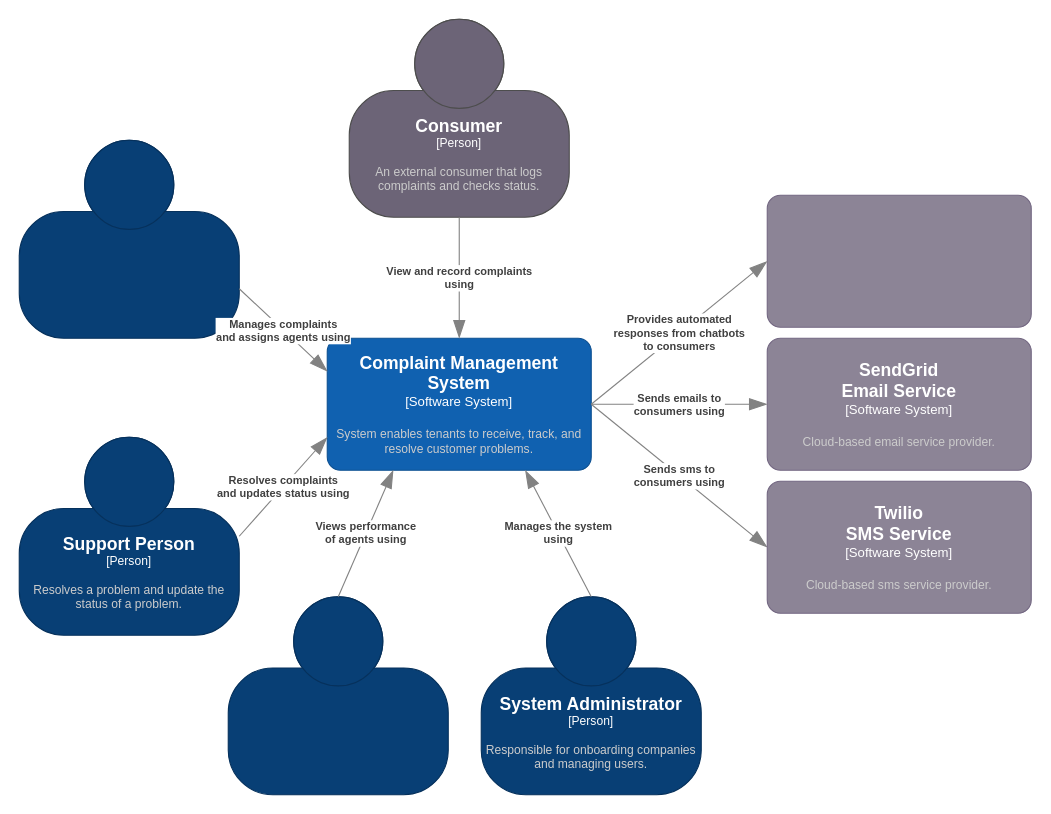
This 1051x814 diagram has some shape labels left out. The shapes that lost their labels are listed below. From the top down, each one's box as (x1, y1, x2, y2) in pixels, then its label:
(18, 139, 239, 338): Help Desk Agent [Person] Resolves complaints from online portal and phone calls.
(766, 194, 1031, 327): Chatbot Service [Software System] Cloud-based chatbot service provider.
(227, 596, 448, 795): Help Desk Manager [Person] Oversees the performance of problem resolution.
